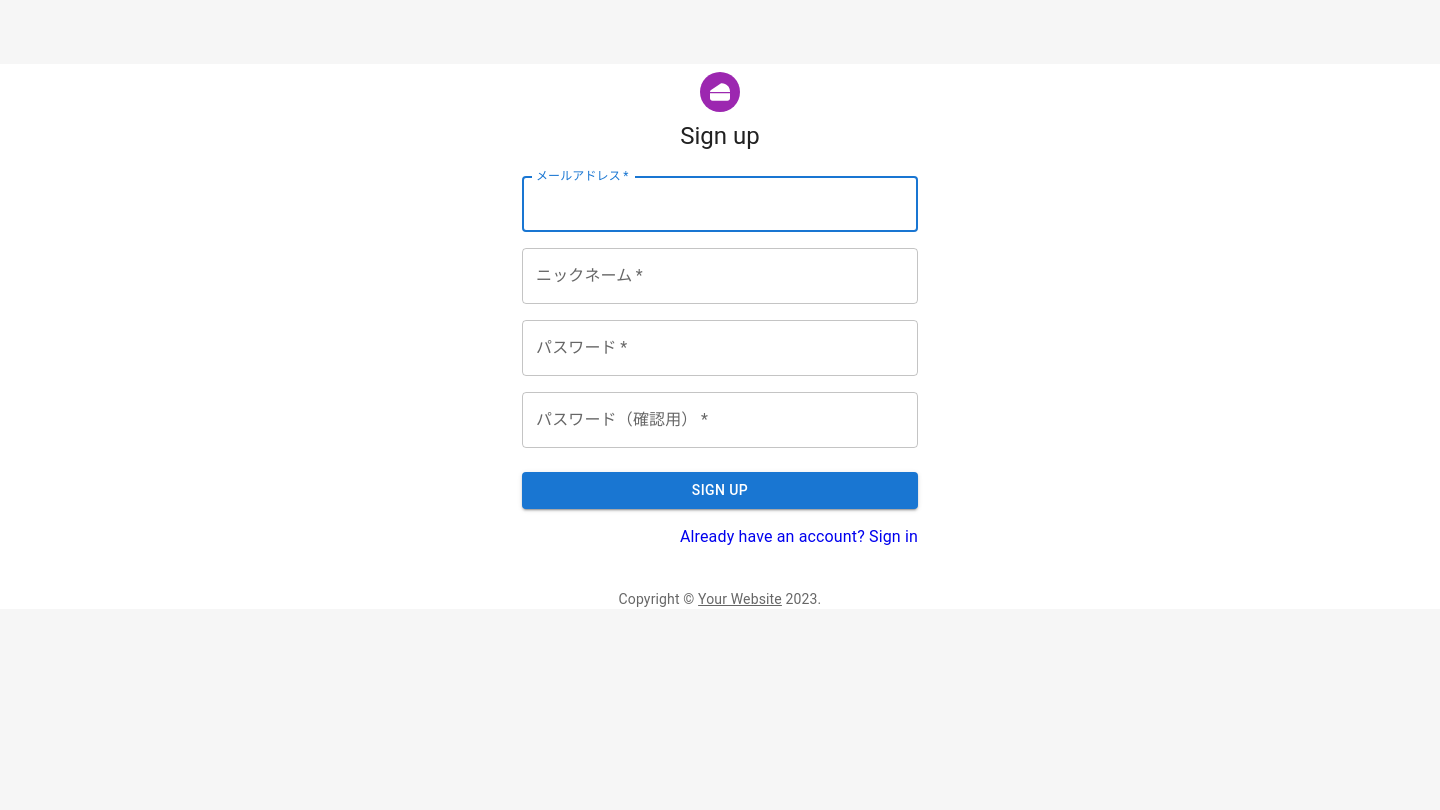
Scenario: サインアップ画面 › パスワード入力 › 桁数チェック - 20桁超えの場合、エラー
This screenshot has width=1440, height=810.
In the password field labelled "パスワード *": (720, 348) [522,320,918,376], type "123456789012345678901"
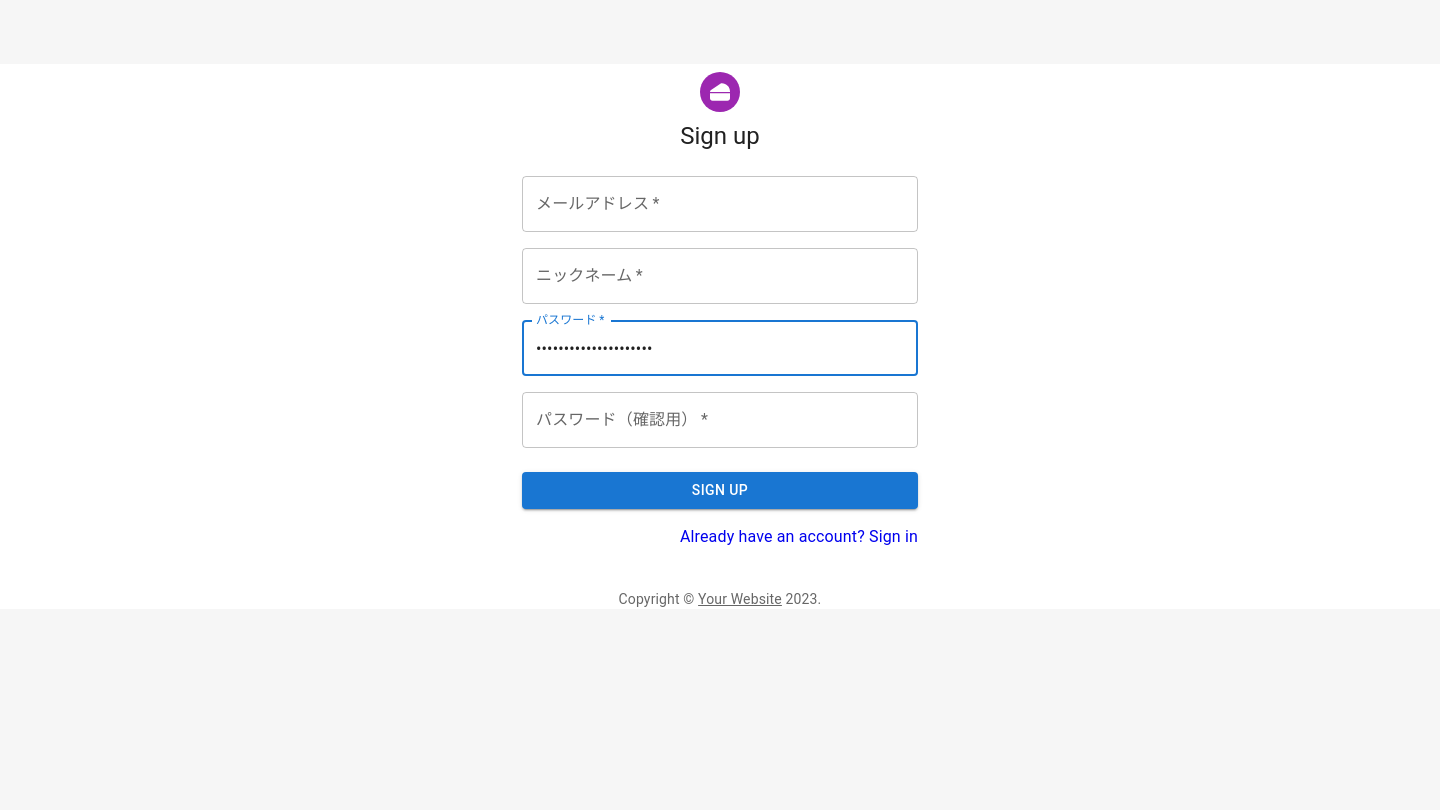
Click the button "Sign Up": click(720, 490) [522,472,918,508]
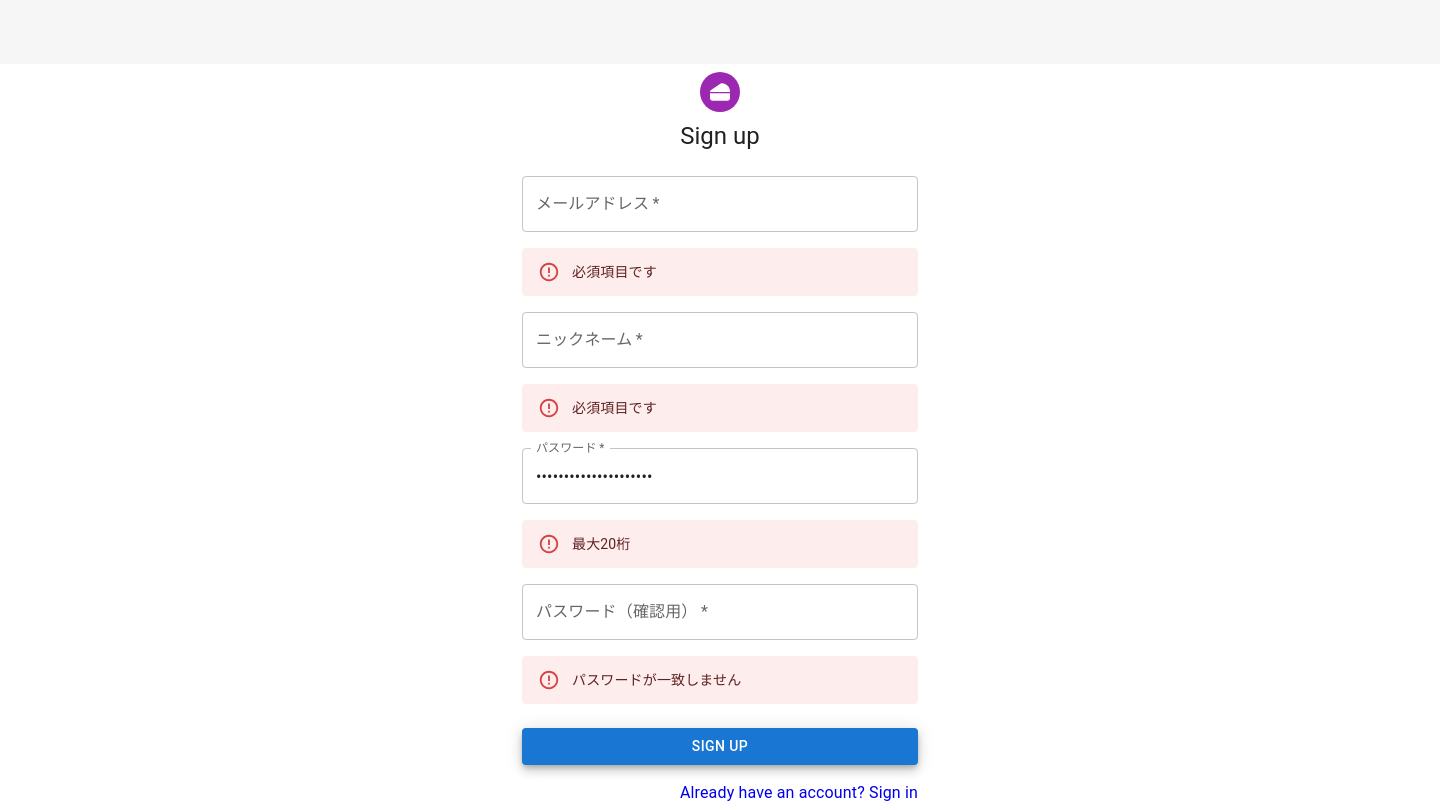
Expected: the text "最大20桁" is shown, [572,536,630,552]
